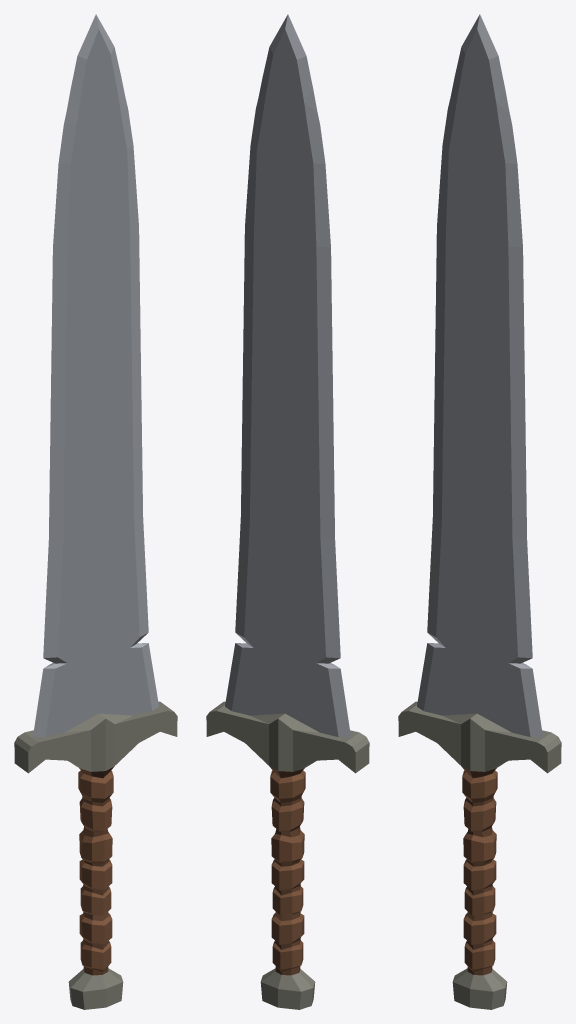
The model's file is Sword_Big.gltf.
3 renders of one model, left to right at view 1: azimuth 30°, elevation 25°; view 2: azimuth 150°, elevation 25°; view 3: azimuth 330°, elevation 25°, orthographic.
Visible parts, largest first — view 1: Sword_Big; view 2: Sword_Big; view 3: Sword_Big.
Boxes of the visible parts, left/top/right/bottom form: Sword_Big: left=14, top=14, right=177, bottom=1009; Sword_Big: left=206, top=14, right=369, bottom=1009; Sword_Big: left=398, top=14, right=561, bottom=1009.
Bounding box in the file's own units: 1.02 × 6.44 × 0.2386.
